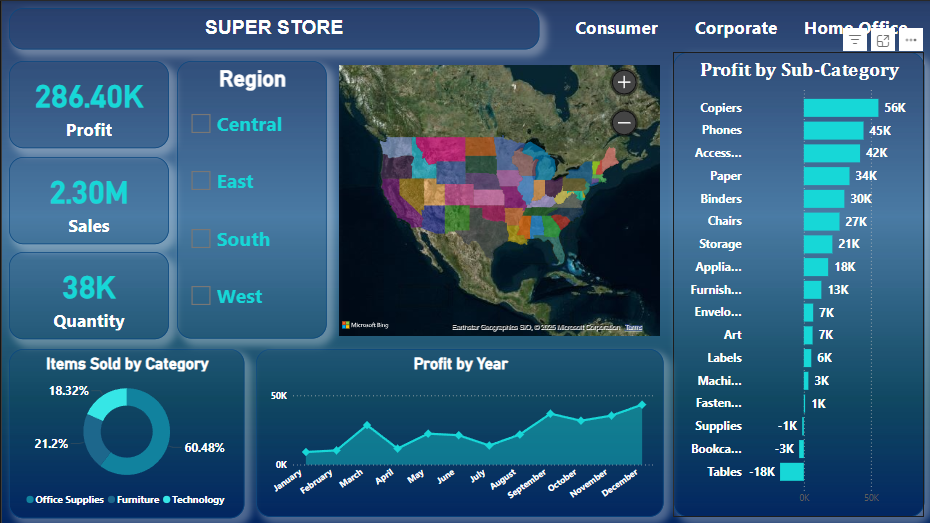

The dashboard page shown, as its layout file describes it:
{"tool":"powerbi","page":{"name":"New","canvas":[1280,720],"ordinal":0},"visuals":[{"type":"textbox","box":[10,10,730,57.1],"z":0},{"type":"slicer","fields":{"Values":["Orders.Segment"]},"box":[740,2.9,540,64.3],"z":1000},{"type":"clusteredBarChart","title":"Profit by Sub-Category","fields":{"Category":["Orders.Sub-Category"],"Y":["Sum(Orders.Profit)"]},"box":[922.9,70,345.7,640],"z":2000},{"type":"card","fields":{"Values":["Sum(Orders.Profit)"]},"box":[10,82.9,220,120],"z":3000},{"type":"card","fields":{"Values":["Sum(Orders.Sales)"]},"box":[10,214.3,220,120],"z":4000},{"type":"areaChart","title":"Profit by Year","fields":{"Category":["Orders.Order Date.Variation.Date Hierarchy.Year","Orders.Order Date.Variation.Date Hierarchy.Quarter","Orders.Order Date.Variation.Date Hierarchy.Month","Orders.Order Date.Variation.Date Hierarchy.Day"],"Y":["Sum(Orders.Profit)"]},"box":[350,478.6,561.4,231.4],"z":5000},{"type":"card","fields":{"Values":["Sum(Orders.Quantity)"]},"box":[10,345.7,220,120],"z":6000},{"type":"donutChart","title":"Items Sold by Category","fields":{"Category":["Orders.Category"],"Y":["Sum(Orders.Quantity)"]},"box":[10,478.6,324.3,232.9],"z":7000},{"type":"filledMap","fields":{"Category":["Orders.State"],"Series":["Orders.State"]},"box":[458.6,82.9,452.9,382.9],"z":8000},{"type":"slicer","title":"Region","fields":{"Values":["Orders.Region"]},"box":[240.5,82.9,206.5,381.7],"z":9000}]}

Visuals, with their boxes in screenshot pixels (x1, y1, x2, y2), scaled from the page's 1280x720 canvas onto the 930x523 screenshot:
textbox: left=7, top=7, right=538, bottom=49
slicer - Orders.Segment: left=538, top=2, right=929, bottom=49
"Profit by Sub-Category" clusteredBarChart: left=671, top=51, right=922, bottom=516
card - Sum(Orders.Profit): left=7, top=60, right=167, bottom=147
card - Sum(Orders.Sales): left=7, top=156, right=167, bottom=243
"Profit by Year" areaChart: left=254, top=348, right=662, bottom=516
card - Sum(Orders.Quantity): left=7, top=251, right=167, bottom=338
"Items Sold by Category" donutChart: left=7, top=348, right=243, bottom=517
filledMap - Orders.State x Orders.State: left=333, top=60, right=662, bottom=338
"Region" slicer: left=175, top=60, right=325, bottom=337
